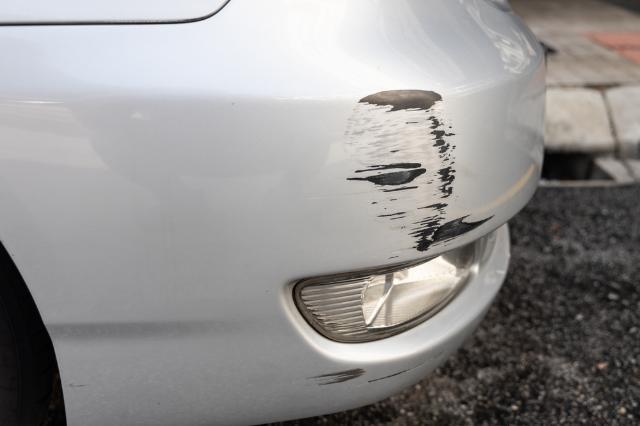scratch: (339, 86, 502, 257), (301, 351, 444, 391)
